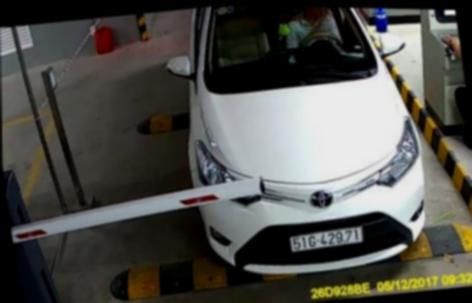License_Plate: (288, 222, 366, 258)
